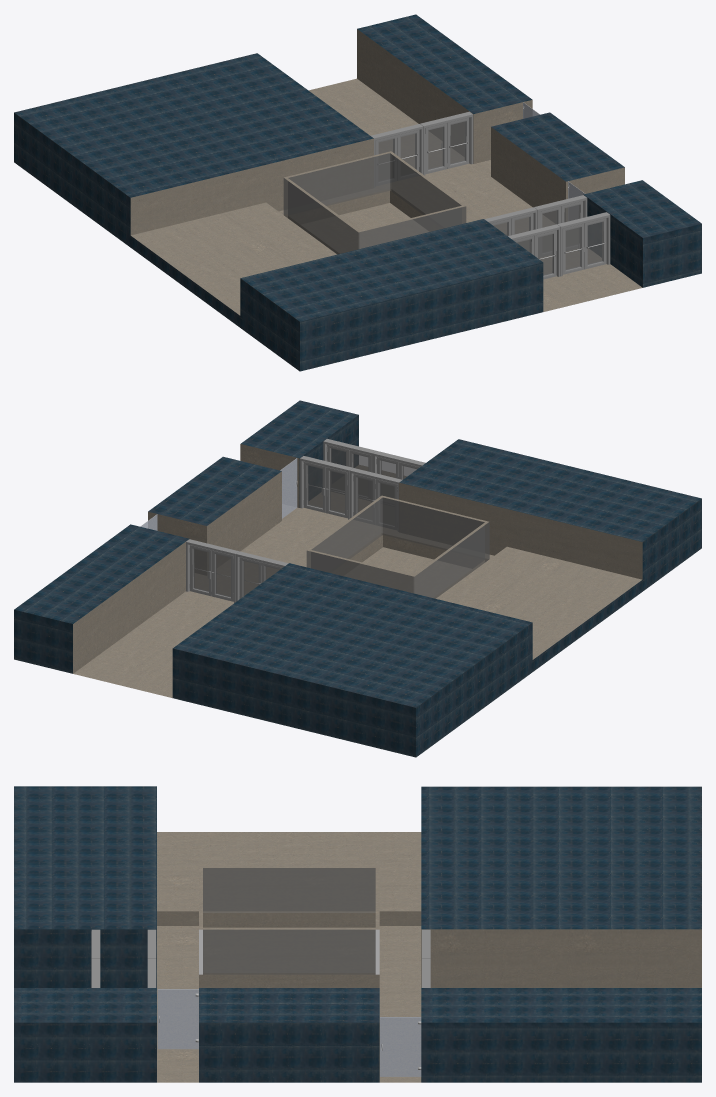
Rendered from school.gltf.
The picture shows the model from 3 angles, top to bottom: view 1: azimuth 30°, elevation 25°; view 2: azimuth 150°, elevation 25°; view 3: azimuth 270°, elevation 25°; orthographic projection. The views are drawn at different scales.
Parts seen in each view (by area): view 1: Plane, Cube.002_Cube.006_chr_Cube.002_Cube.006_chr_frame.001, Cube.002_Cube.006_chr_Cube.002_Cube.006_chr_frame.005, Cube.002_Cube.006_chr_Cube.002_Cube.006_chr_frame.004, Cube.002_Cube.006_chr_Cube.002_Cube.006_chr_frame.002, Cube.002_Cube.006_chr_Cube.002_Cube.006_chr_frame, Cube.002_Cube.006_chr_Cube.002_Cube.006_chr_frame.003; view 2: Plane, Cube.002_Cube.006_chr_Cube.002_Cube.006_chr_frame.005, Cube.002_Cube.006_chr_Cube.002_Cube.006_chr_frame.002, Cube.002_Cube.006_chr_Cube.002_Cube.006_chr_frame.003, Cube.002_Cube.006_chr_Cube.002_Cube.006_chr_frame.001, Cube.002_Cube.006_chr_Cube.002_Cube.006_chr_frame.004, Cube.002_Cube.006_chr_Cube.002_Cube.006_chr_frame, glass_door_framless; view 3: Plane, glass_door_framless, glass_door_framless.001.
Part boxes in pixels (<box>): Plane: <box>14,14,701,371</box>; Cube.002_Cube.006_chr_Cube.002_Cube.006_chr_frame.001: <box>557,212,610,276</box>; Cube.002_Cube.006_chr_Cube.002_Cube.006_chr_frame.005: <box>420,111,473,175</box>; Cube.002_Cube.006_chr_Cube.002_Cube.006_chr_frame.004: <box>370,124,423,187</box>; Cube.002_Cube.006_chr_Cube.002_Cube.006_chr_frame.002: <box>534,195,587,258</box>; Cube.002_Cube.006_chr_Cube.002_Cube.006_chr_frame: <box>508,224,560,279</box>; Cube.002_Cube.006_chr_Cube.002_Cube.006_chr_frame.003: <box>484,207,537,251</box>; Plane: <box>14,400,701,757</box>; Cube.002_Cube.006_chr_Cube.002_Cube.006_chr_frame.005: <box>186,539,238,603</box>; Cube.002_Cube.006_chr_Cube.002_Cube.006_chr_frame.002: <box>300,456,352,519</box>; Cube.002_Cube.006_chr_Cube.002_Cube.006_chr_frame.003: <box>350,468,402,531</box>; Cube.002_Cube.006_chr_Cube.002_Cube.006_chr_frame.001: <box>323,438,376,501</box>; Cube.002_Cube.006_chr_Cube.002_Cube.006_chr_frame.004: <box>236,551,288,601</box>; Cube.002_Cube.006_chr_Cube.002_Cube.006_chr_frame: <box>373,451,425,497</box>; glass_door_framless: <box>280,458,297,518</box>; Plane: <box>14,786,701,1082</box>; glass_door_framless: <box>157,989,198,1049</box>; glass_door_framless.001: <box>380,1017,421,1076</box>.
Size of what is drawn, in the model's own units: 3.97 by 0.4718 by 4.89.
28 materials, 4 textured.
